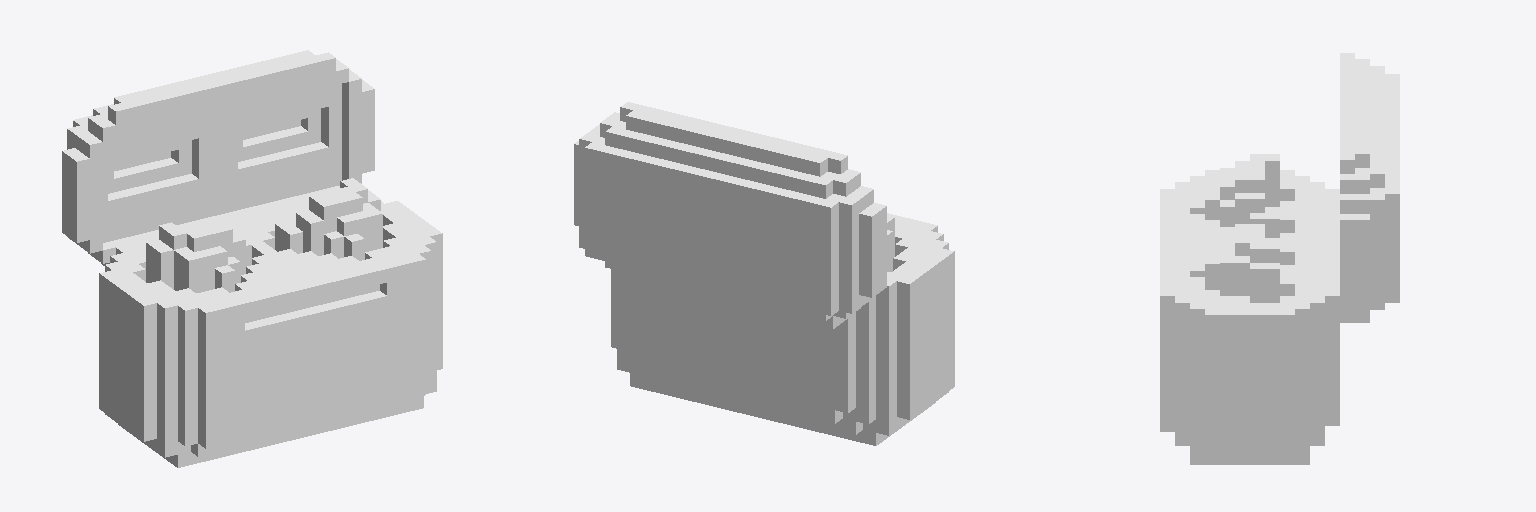
File: Bluetooth_open.obj
The picture shows the model from 3 angles: view 1: azimuth 30°, elevation 25°; view 2: azimuth 150°, elevation 25°; view 3: azimuth 270°, elevation 25°; orthographic projection.
Parts seen in each view (by area): view 1: object 1; view 2: object 1; view 3: object 1.
Boxes of the visible parts, x1=… form: object 1: x1=62, y1=50, x2=442, y2=467; object 1: x1=574, y1=102, x2=954, y2=445; object 1: x1=1160, y1=53, x2=1399, y2=464.
Bounding box in the file's own units: 2.3 × 2.2 × 1.6.